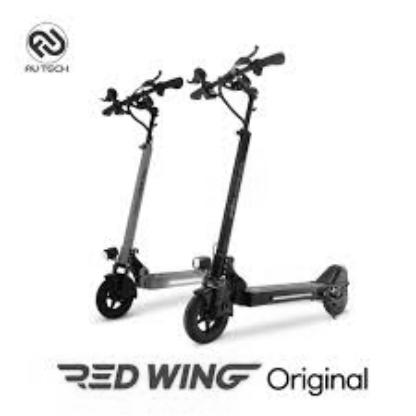bike: (92, 35, 352, 346)
